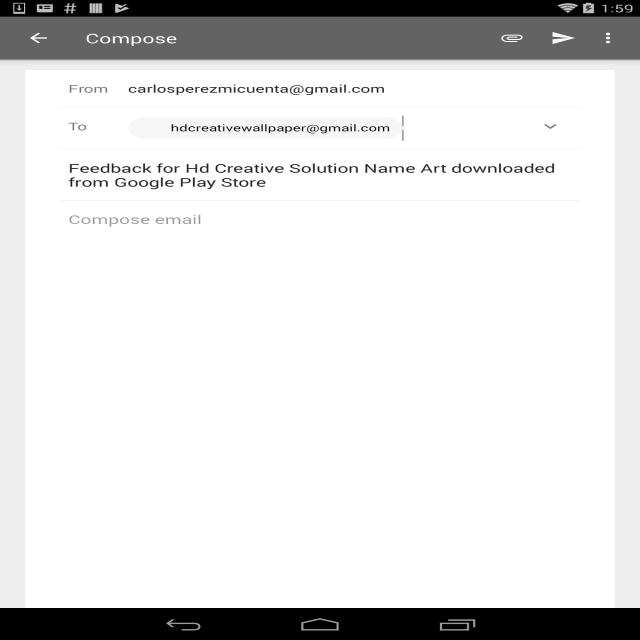EditText: (68, 149, 572, 201)
ImageButton: (9, 17, 68, 59)
ImageView: (521, 108, 580, 145), (589, 22, 631, 54)
TextView: (128, 81, 580, 96), (68, 70, 128, 107), (68, 108, 128, 145), (85, 29, 177, 47), (487, 22, 538, 54), (538, 22, 588, 54)
